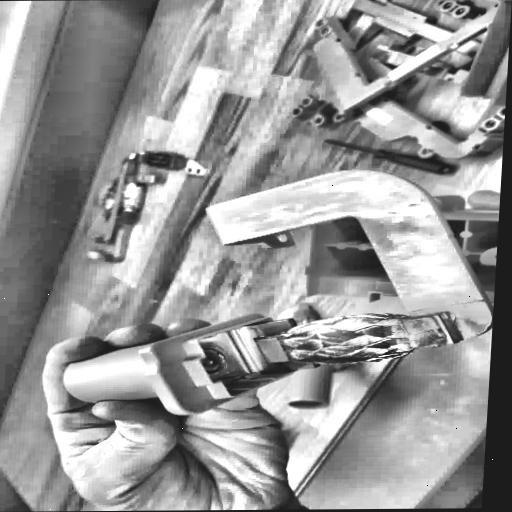busbar: (67, 145, 208, 268)
connector: (58, 170, 499, 427)
